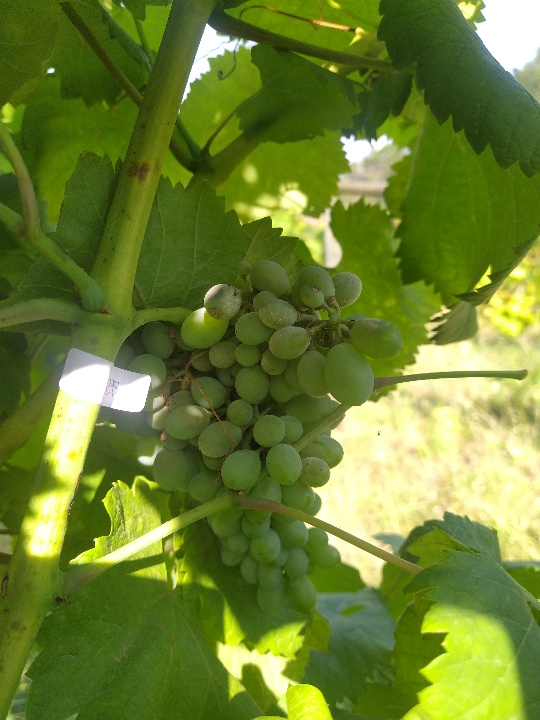grape: (109, 251, 410, 621)
